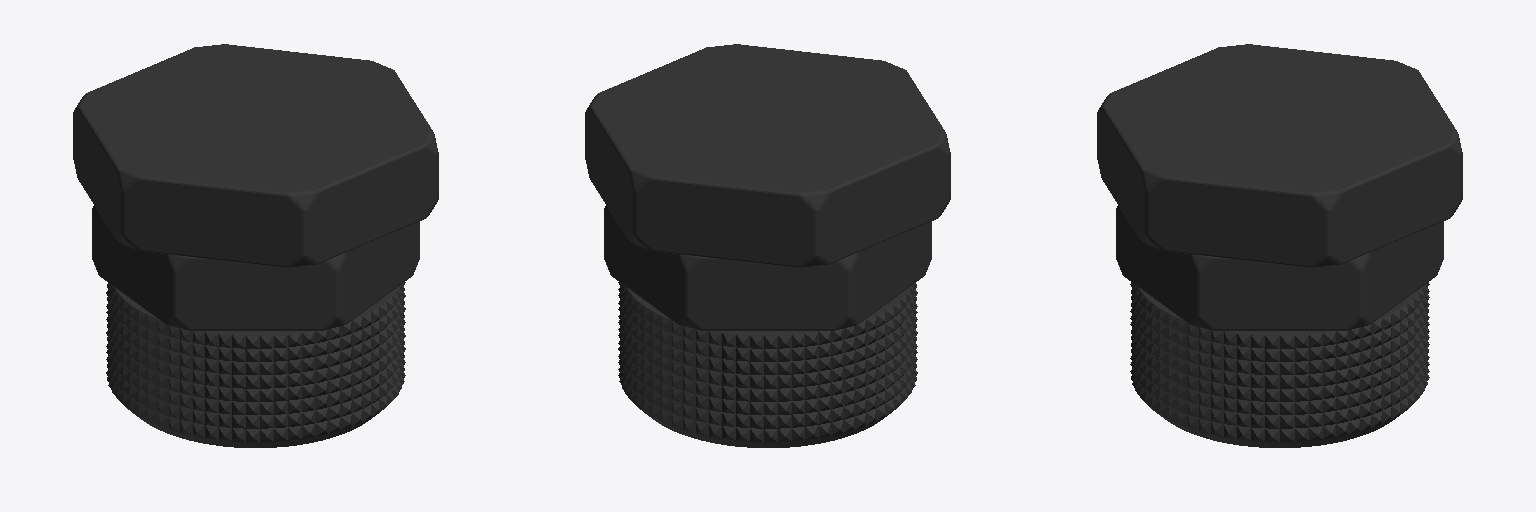
The model's file is koniec_str_v.obj.
The picture shows the model from 3 angles: view 1: azimuth 30°, elevation 25°; view 2: azimuth 150°, elevation 25°; view 3: azimuth 270°, elevation 25°; orthographic projection.
Parts seen in each view (by area): view 1: BezierCircle.029_Mesh.045; view 2: BezierCircle.029_Mesh.045; view 3: BezierCircle.029_Mesh.045.
Part boxes in pixels (x1,y1,x2,y2): BezierCircle.029_Mesh.045: (73,44,438,447); BezierCircle.029_Mesh.045: (585,44,950,447); BezierCircle.029_Mesh.045: (1097,44,1462,447).
Bounding box in the file's own units: 0.2003 × 0.1662 × 0.2003.